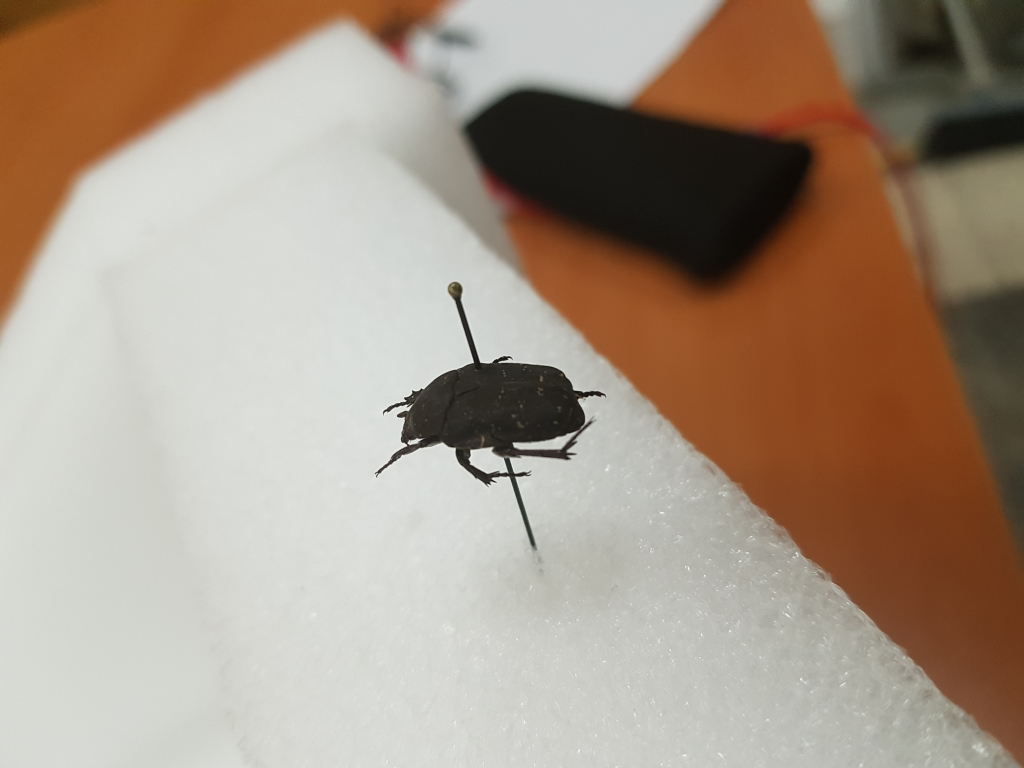Protaetia_morio_morio: (366, 349, 614, 495)
